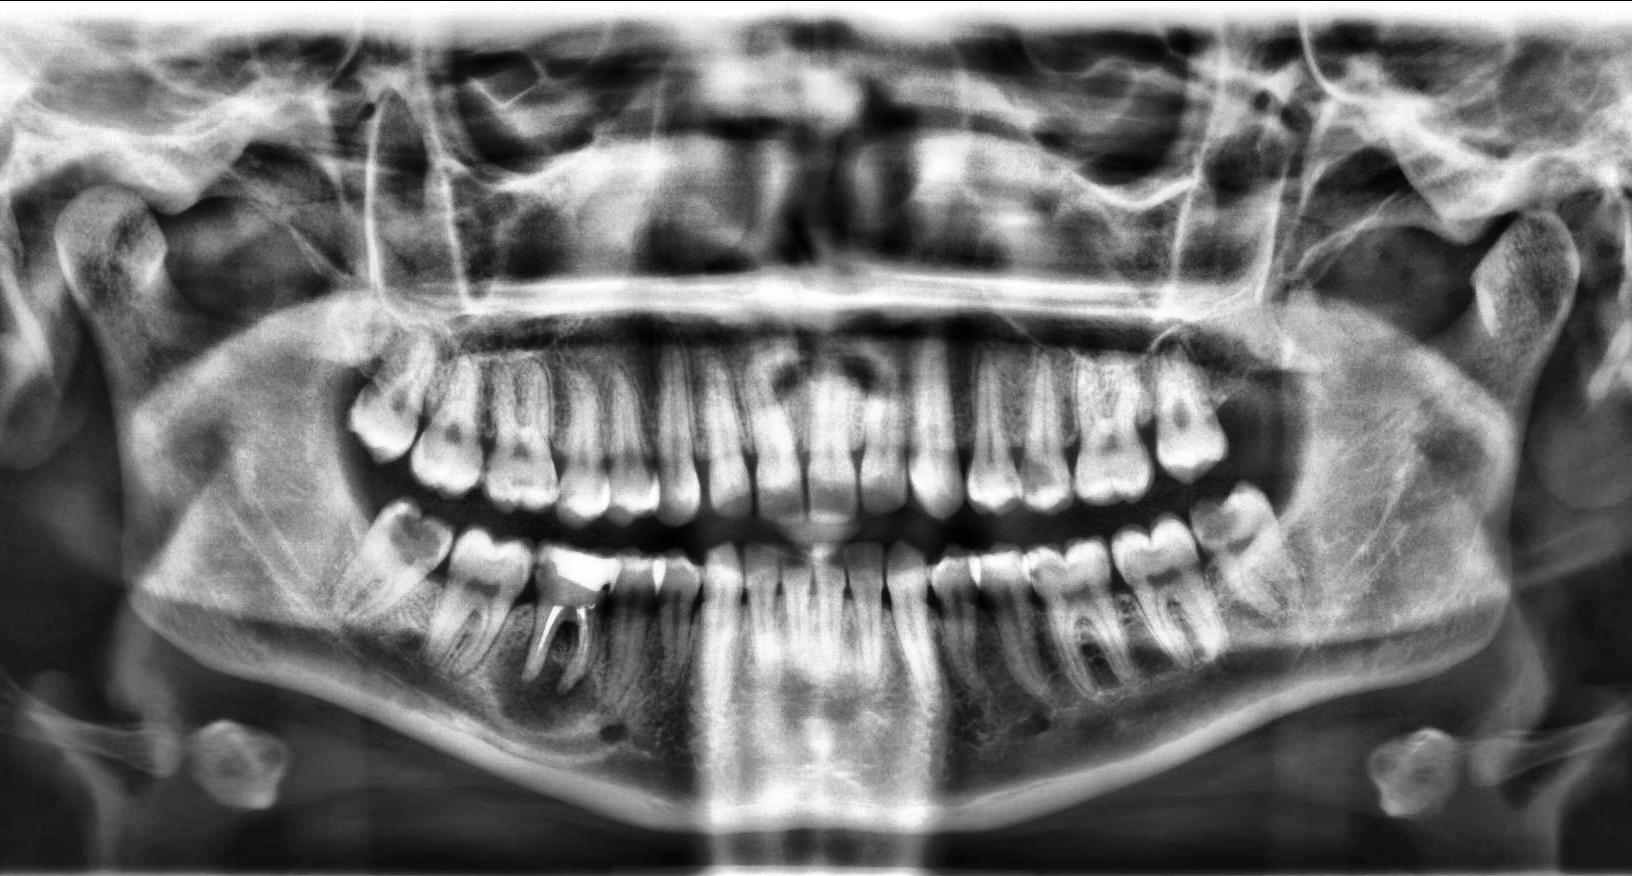radicular: (482, 639, 602, 736)
